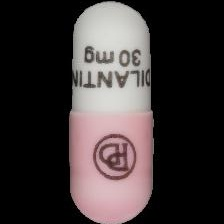68151-1019: (0, 0, 224, 224)
